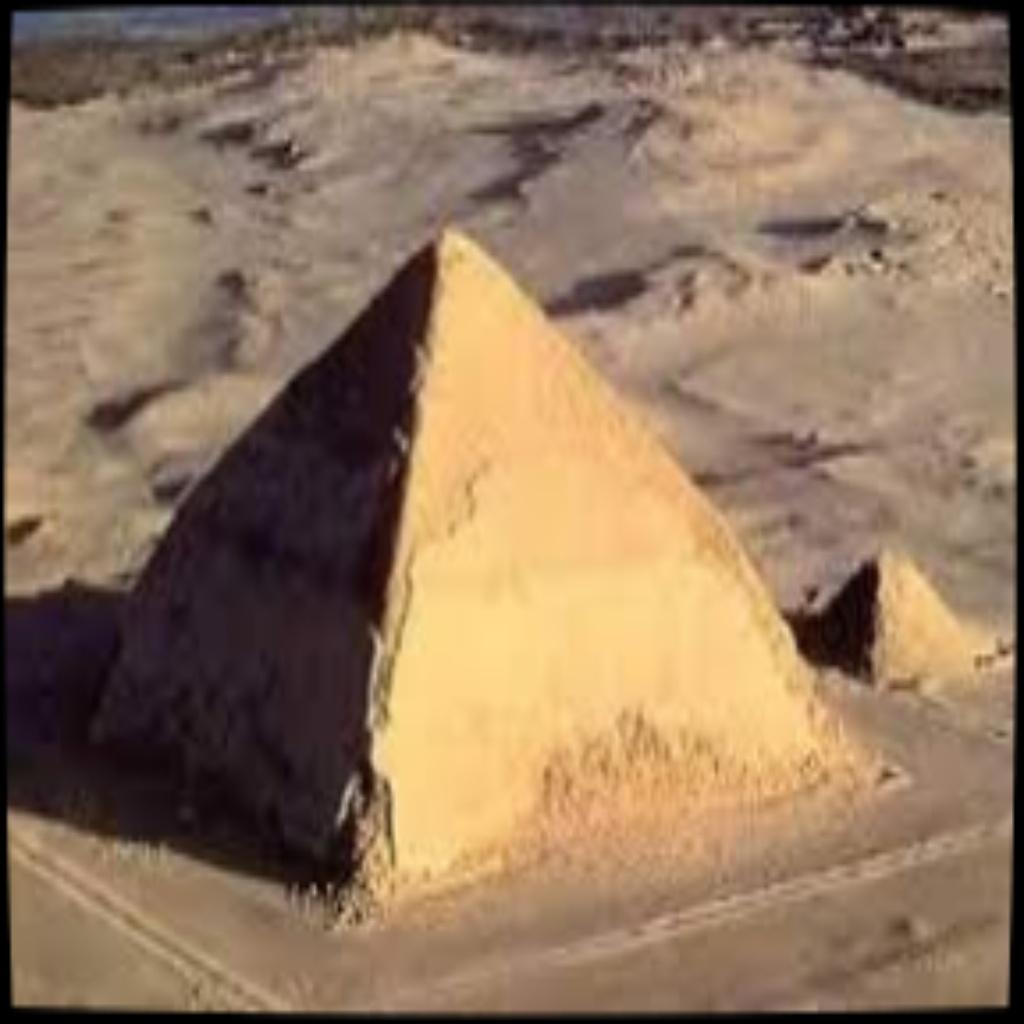Bent Pyramid of King Sneferu: (11, 216, 896, 924)
